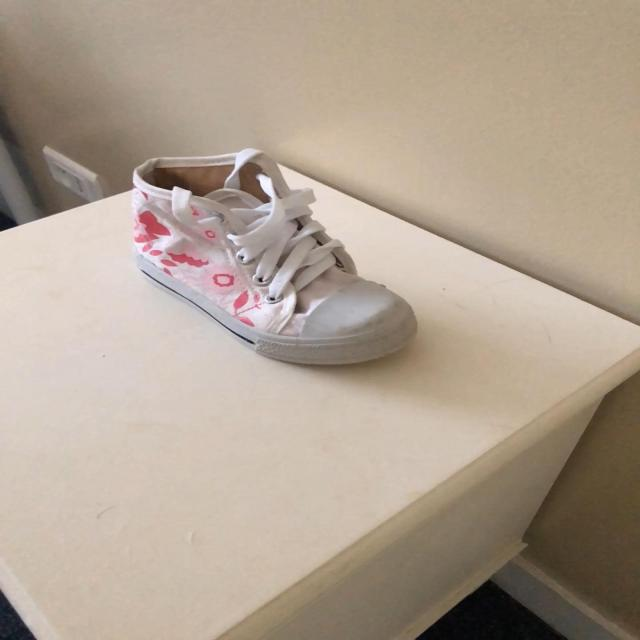shoe: (134, 151, 413, 366)
